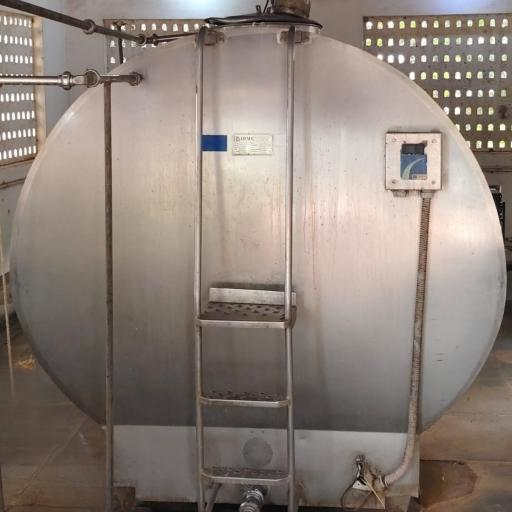silo: (6, 14, 506, 509)
